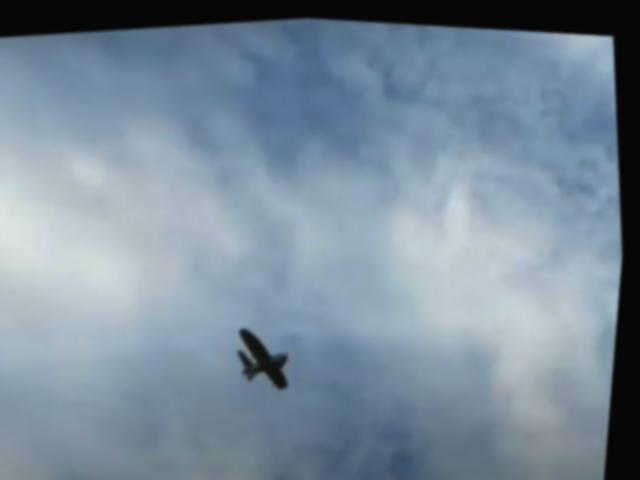uav: (232, 311, 305, 401)
